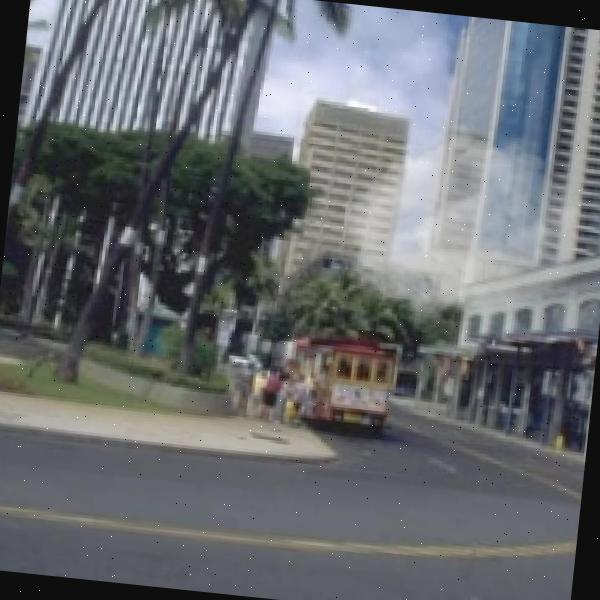smoke: (333, 113, 589, 341)
